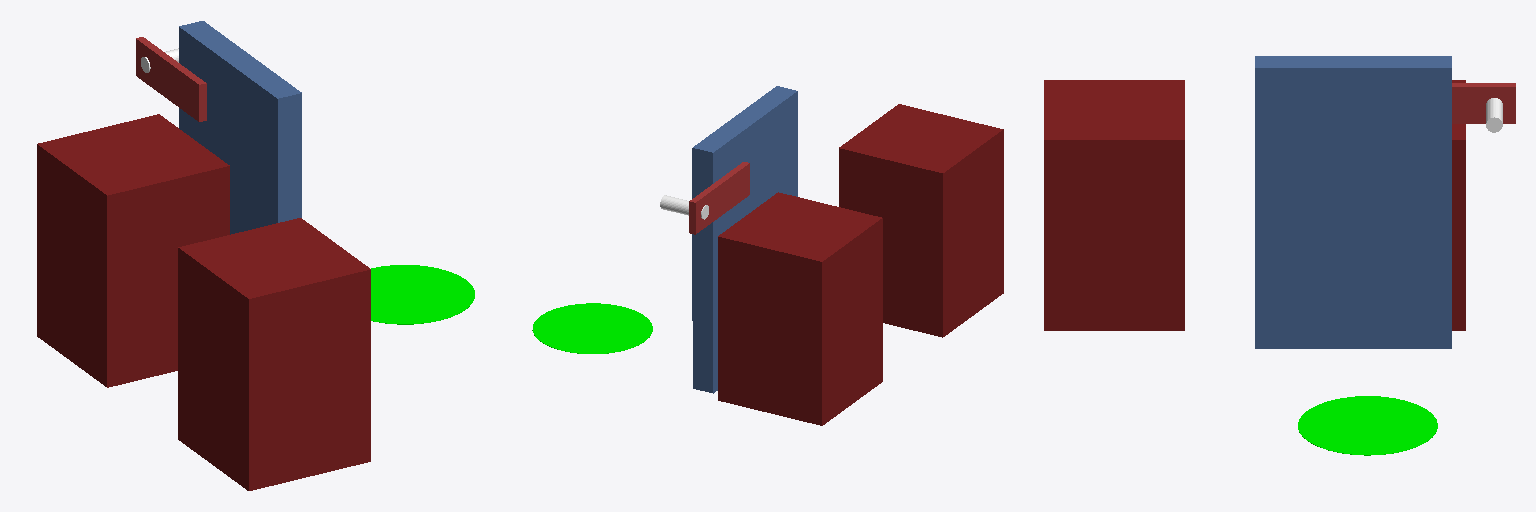
URDF robot description (room0):
<robot name="room0">
    <link name="base_link"/>

    <link name="room">
      <visual>
        <geometry>
          <mesh filename="[local-path]/rb_ws/robowflex/robowflex_dart/include/io/envs/room0/meshes/room.dae" scale=" 0.4 0.4 0.3"/>
        </geometry>
        <origin rpy="0 0 0" xyz="0 0 0"/>
      <material name="">
        <color rgba="0.94901960784 0.94901960784 0.94901960784 1"/>
      </material>
      </visual>

      <collision>
        <geometry>
          <mesh filename="[local-path]/rb_ws/robowflex/robowflex_dart/include/io/envs/room0/meshes/room.dae" scale=" 0.4 0.4 0.3"/>
        </geometry>
        <origin rpy="0 0 0" xyz="0 0 0"/>       
       </collision>
    </link>


        <link name="shelf">
      <visual>
        <geometry>
          <mesh filename="[local-path]/rb_ws/robowflex/robowflex_dart/include/io/envs/room0/meshes/shelf.dae" scale="0.042 0.05 0.04"/>
        </geometry>
        <origin rpy="0 0 0" xyz="0 0 0"/>
      
      <material name="">
        <color rgba="0.729411 0.549019 0.388235 1"/>
      </material>

      </visual>
      <collision>
        <geometry>
          <mesh filename="[local-path]/rb_ws/robowflex/robowflex_dart/include/io/envs/room0/meshes/shelf.dae" scale="0.042 0.05 0.04"/>
        </geometry>
        <origin rpy="0 0 0" xyz="0 0 0"/>       
       </collision>
    </link>


    <link name="desk">
      <visual>
        <geometry>
          <mesh filename="[local-path]/rb_ws/robowflex/robowflex_dart/include/io/envs/room0/meshes/desk2.dae" scale="0.01 0.01 0.020"/>
        </geometry>
        <origin rpy="0 0 0" xyz="0 0 0"/>
      
    <material name="">
        <color rgba="0.729411 0.549019 0.388235 1"/>
      </material>

      </visual>
      <collision>
        <geometry>
          <mesh filename="[local-path]/rb_ws/robowflex/robowflex_dart/include/io/envs/room0/meshes/desk2.dae" scale="0.01 0.01 0.020"/>
        </geometry>
        <origin rpy="0 0 0" xyz="0 0 0"/>       
       </collision>
    </link>



    <link name="sofa">
      <visual>
        <geometry>
          <mesh filename="[local-path]/rb_ws/robowflex/robowflex_dart/include/io/envs/room0/meshes/sofa.dae" scale="0.7 0.7 1"/>
        </geometry>
        <origin rpy="0 0 0" xyz="0 0 0"/>
      
      <material name="">
        <color rgba="0.70196 0.8 1 1"/>
      </material>

      </visual>
      <collision>
        <geometry>
          <mesh filename="[local-path]/rb_ws/robowflex/robowflex_dart/include/io/envs/room0/meshes/sofa.dae" scale="0.7 0.7 1"/>
        </geometry>
        <origin rpy="0 0 0" xyz="0 0 0"/>       
       </collision>
    </link>

    <link name="link_0_joint_0">
      <visual>
        <geometry>
          <box size="0.5 0.5 0.75"/>
        </geometry>
        <origin rpy="0 0 0" xyz="0 0 0"/>
          <material name="">
          <color rgba="0.541176 0.156862 0.156862 1.0"/>
      </material>
      </visual>
      <collision>
        <geometry>
          <box size="0.5 0.5 0.75"/>
        </geometry>
        <origin rpy="0 0 0" xyz="0 0 0"/>      
       </collision>
    </link>


    <link name="link_1_joint_0">
      <visual>
        <geometry>
          <box size="0.5 0.5 0.75"/>
        </geometry>
        <origin rpy="0 0 0" xyz="0 0 0"/>
       <material name="">
          <color rgba="0.541176 0.156862 0.156862 1.0"/>
      </material>
      </visual>
      <collision>
        <geometry>
          <box size="0.5 0.5 0.75"/>
        </geometry>
        <origin rpy="0 0 0" xyz="0 0 0"/>      
       </collision>
    </link>


     <link name="link_2_joint_0">
      <visual>
        <geometry>
          <box size="0.03 0.45 0.146"/>
        </geometry>
      <origin rpy="0 0 0" xyz="0 -0.15 0"/>
             <material name="">
          <color rgba="0.6901 0.2509 0.2509 1.0"/>
      </material>
      </visual>
      <collision>       
        <geometry>
          <box size="0.03 0.45 0.146"/>
        </geometry>
      <origin rpy="0 0 0" xyz="0 -0.15 0"/>
       </collision>
    </link>


     <link name="link_3_joint_0">
     <visual>
        <geometry>
          <box size="1.1 0.7 0.1"/>
        </geometry>
        <origin rpy="0 -1.57 0" xyz="0.0 0.35 0"/>
        <material name="">
          <color rgba="0.349019 0.470588 0.650980 1.0"/>
      </material>
      </visual>
      <collision>
        <geometry>
          <box size="1.1 0.7 0.1"/>
        </geometry>
        <origin rpy="0 -1.57 0" xyz="0.0 0.35 0"/>     
       </collision>
    </link>


     <link name="lock_part">
      <visual>
        <geometry>
          <cylinder radius="0.03" length="0.2"/>
        </geometry>
             <material name="">
          <color rgba="1 1 1 1.0"/>
      </material>
      </visual>
    </link>

<link name="cube1_y_axis"/>
<link name="cube2_y_axis"/>


  <joint name="link_0_joint_0" type="prismatic">
      <origin rpy="0 0 0" xyz="0.95 0.1 0.375"/>
      <parent link="base_link"/>
      <child link="cube1_y_axis"/>
      <axis xyz="0 1 0"/>
      <limit lower="-1.10" upper="0.96" effort="0.05" velocity="1.57"/>
  </joint>


  <joint name="link_0_joint_1" type="prismatic">
      <origin rpy="0 0 0" xyz="0 0 0"/>
      <parent link="cube1_y_axis"/>
      <child link="link_0_joint_0"/>
      <axis xyz="1 0 0"/>
      <limit lower="-1.5" upper="0.05" effort="0.05" velocity="1.57"/>
  </joint>



  <joint name="link_1_joint_0" type="prismatic">
      <origin rpy="0 0 0" xyz="0.95 -0.9 0.375"/>
      <parent link="base_link"/>
      <child link="cube2_y_axis"/>
      <axis xyz="0 1 0"/>
      <limit lower="-0.1" upper="1.90" effort="0.05" velocity="1.57"/>
  </joint>


  <joint name="link_1_joint_1" type="prismatic">
      <origin rpy="0 0 0" xyz="0 0 0"/>
      <parent link="cube2_y_axis"/>
      <child link="link_1_joint_0"/>
      <axis xyz="1 0 0"/>
      <limit lower="-1.5" upper="0.05" effort="0.05" velocity="1.57"/>
  </joint>


 <joint name="link_2_joint_0" type="revolute">
      <origin rpy="0 0 0" xyz="1.22 0.45 0.90"/>
      <parent link="base_link"/>
      <child link="link_2_joint_0"/>
      <axis xyz="1 0 0"/>
      <limit lower="0" upper="1.57" effort="0.05" velocity="1.57"/>
  </joint>


  <joint name="link_3_joint_0" type="revolute">
      <origin rpy="0 0 0" xyz="1.30 -0.4 0.55"/>
      <parent link="base_link"/>
      <child link="link_3_joint_0"/>
      <axis xyz="0 0 1"/>
      <limit lower="0.0" upper="1.57" effort="0.05" velocity="1.57"/>
  </joint>

  <joint name="desk_joint" type="fixed">
      <origin rpy="0 0 1.57" xyz="0.30 0.6 0.0"/>
      <parent link="base_link"/>
      <child link="desk"/>
      <axis xyz="0 0 1"/>
  </joint>


<joint name="room_j" type="fixed">
    <origin rpy="0 0 -1.57" xyz="0 0 0.0"/>
    <parent link="base_link"/>
    <child link="room"/>
    <axis xyz="0 1 0"/>
  </joint>

<joint name="shelf_j" type="fixed">
    <origin rpy="0 0 -1.57" xyz="1.1 0.9 0.0"/>
    <parent link="base_link"/>
    <child link="shelf"/>
    <axis xyz="0 1 0"/>
  </joint>


  <joint name="lock_part_j" type="fixed">
    <origin rpy="0 1.57 0" xyz="1.3 0.45 0.9"/>
      <parent link="base_link"/>
      <child link="lock_part"/>
      <axis xyz="0.0 0.0 1"/>
  </joint>

<joint name="sofa_joint" type="fixed">
        <origin rpy="0 0 1.57" xyz="-0.90 -0.2 0.0"/>
        <parent link="base_link"/>
        <child link="sofa"/>
        <axis xyz="0 0 1"/>
        <limit lower="-1.57" upper="1.57" effort="0.05" velocity="1.57"/>
    </joint>


  <link name="goal">
    <visual>
         <origin xyz="0 0 0" rpy="0 0 0"/>
        <geometry>
          <cylinder radius="0.25" length="0.001"/>
        </geometry>
        <material name="">
          <color rgba="0 1 0 1.0"/>
        </material>
      </visual>
</link>

<joint name="goal" type="fixed">
  <origin rpy="0 0 0" xyz="2.0 0.0 0.0"/>
  <parent link="base_link"/>
    <child link="goal"/>
</joint>



</robot>

--- What the picture shows (computed from the rendered views, not written in the file) ---
3 views of the same robot in one strip: view 1: azimuth 30°, elevation 25°; view 2: azimuth 150°, elevation 25°; view 3: azimuth 270°, elevation 25° (orthographic).
Robot: room0 — 13 links, 12 joints (2 revolute, 4 prismatic, 6 fixed); root link base_link; default pose: every joint at zero.
Links seen in each view (by area): view 1: link_1_joint_0, link_0_joint_0, link_3_joint_0, goal, link_2_joint_0; view 2: link_0_joint_0, link_1_joint_0, link_3_joint_0, goal, link_2_joint_0; view 3: link_3_joint_0, link_1_joint_0, goal, link_0_joint_0, link_2_joint_0, lock_part.
Link boxes in pixels (x1,y1,x2,y2): link_1_joint_0: (178,218,370,490); link_0_joint_0: (37,114,229,387); link_3_joint_0: (179,21,301,234); goal: (371,265,474,324); link_2_joint_0: (136,37,206,121); link_0_joint_0: (718,192,882,425); link_1_joint_0: (839,104,1003,337); link_3_joint_0: (692,86,797,393); goal: (532,303,652,353); link_2_joint_0: (689,162,749,234); link_3_joint_0: (1255,56,1451,348); link_1_joint_0: (1044,80,1184,330); goal: (1298,396,1437,455); link_0_joint_0: (1452,80,1465,330); link_2_joint_0: (1452,83,1515,123); lock_part: (1486,98,1502,132).
Bounding box of the posed robot: 1.55 × 1.68 × 1.1 m (x, y, z).
Geometry: only primitive shapes (box / cylinder / sphere) drawn; not drawn: 4 mesh visuals (reference in a form the renderer does not follow).